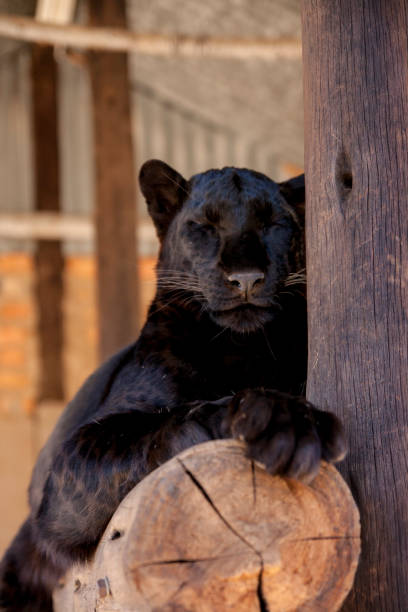panther: (125, 146, 309, 368)
